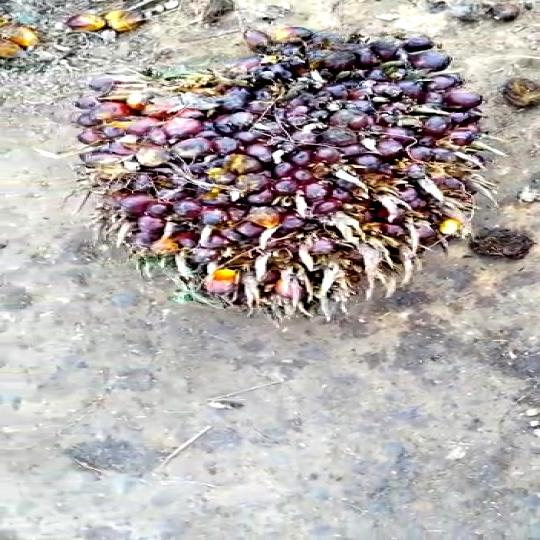masak: (59, 21, 510, 338)
